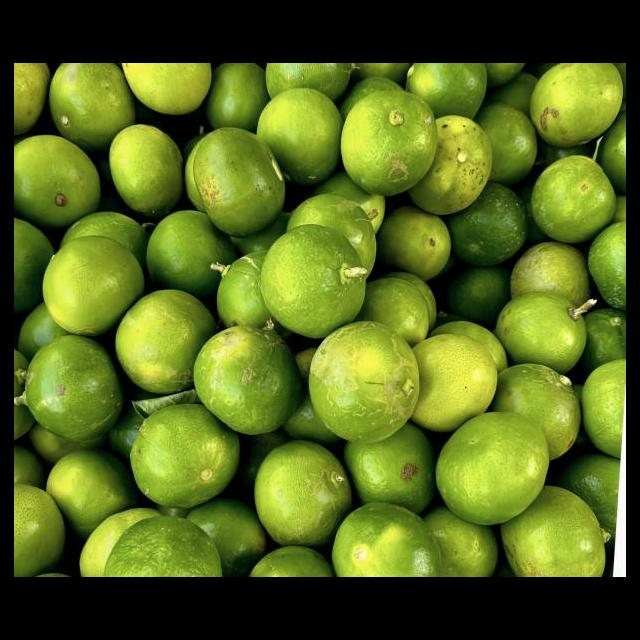lime: (190, 322, 311, 439), (180, 126, 296, 248), (339, 86, 438, 196), (43, 236, 143, 336), (403, 113, 494, 219), (14, 135, 101, 236), (529, 63, 623, 149), (497, 293, 586, 375)
